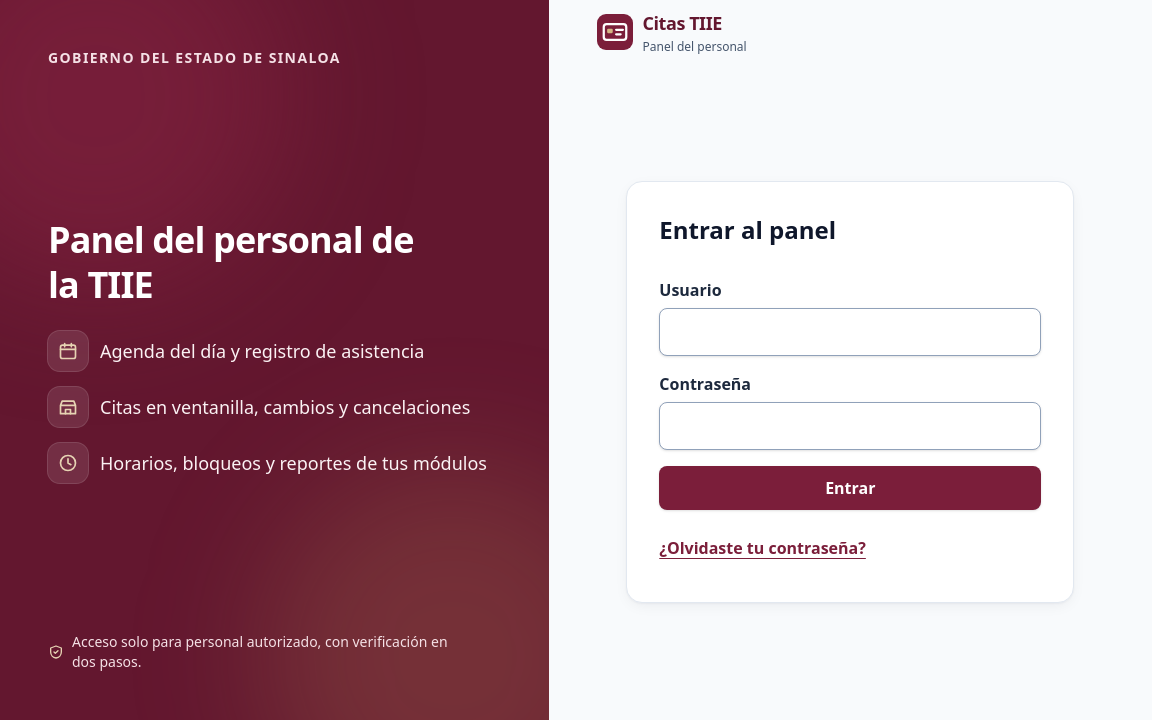
Test: Entrar al panel › con CuentaBloqueada indica a qué hora de Sinaloa se desbloquea
Type "capturista" into the field labelled "Usuario" at x=850, y=332, box [659,308,1041,356]
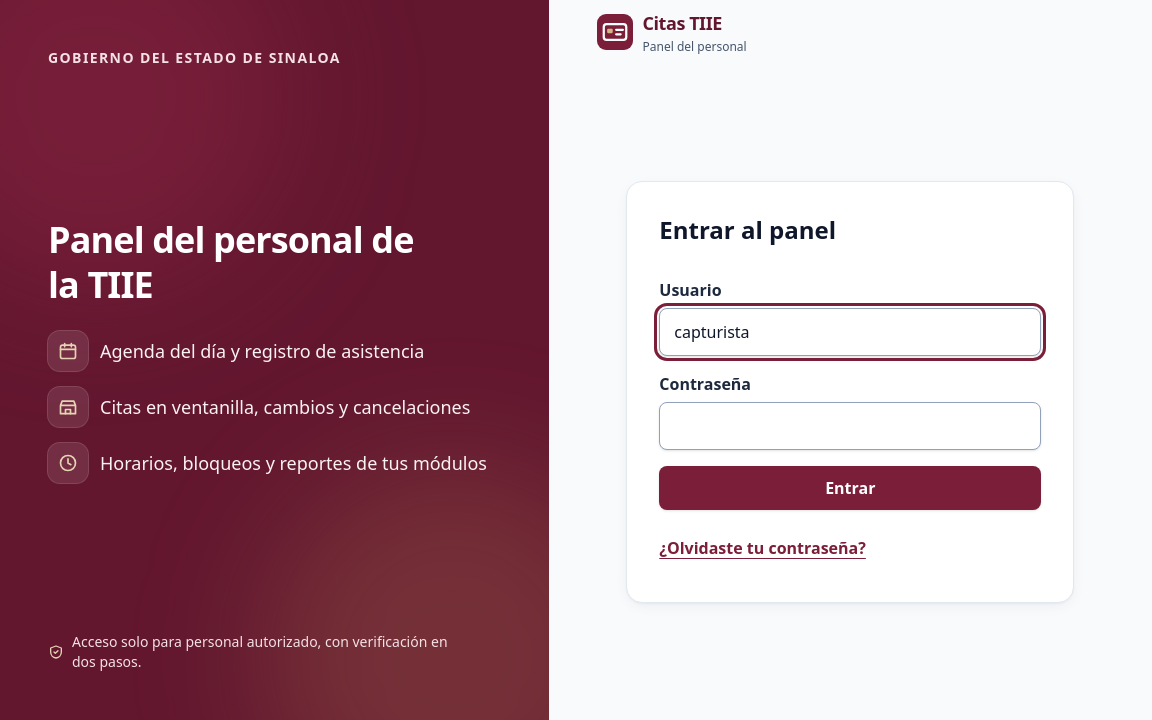
Type "una frase larga y segura" into the password field labelled "Contraseña" at x=850, y=426, box [659,402,1041,450]
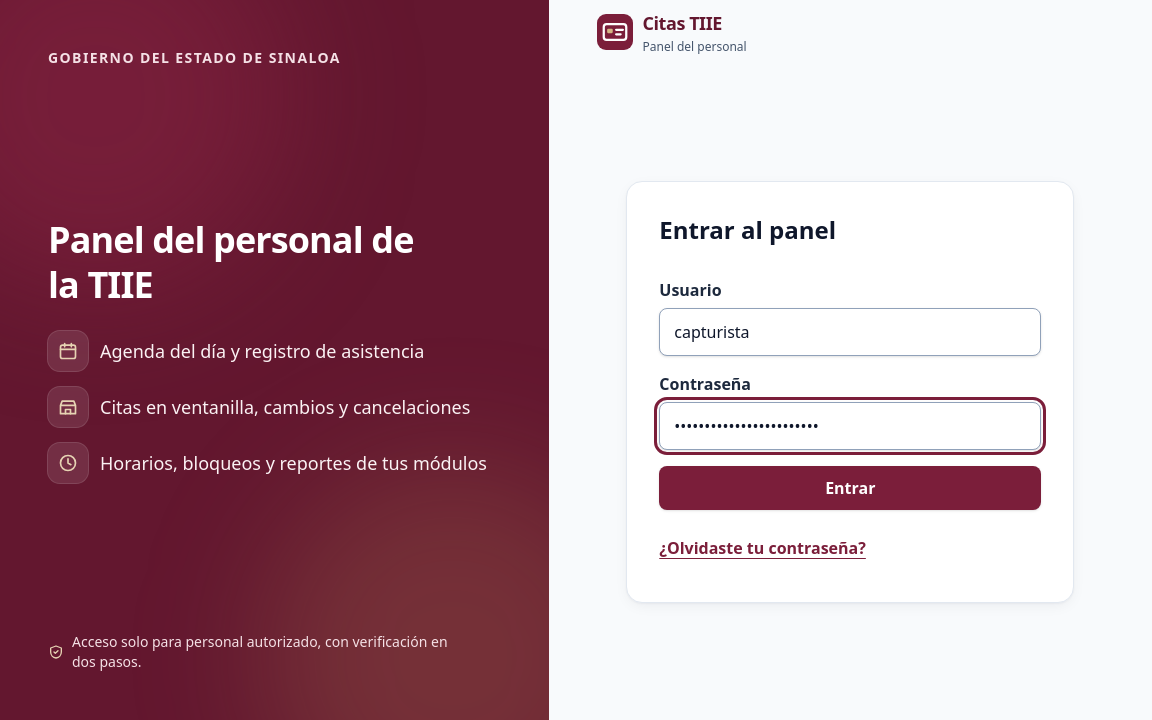
Click the button "Entrar" at x=850, y=488, box [659,466,1041,510]
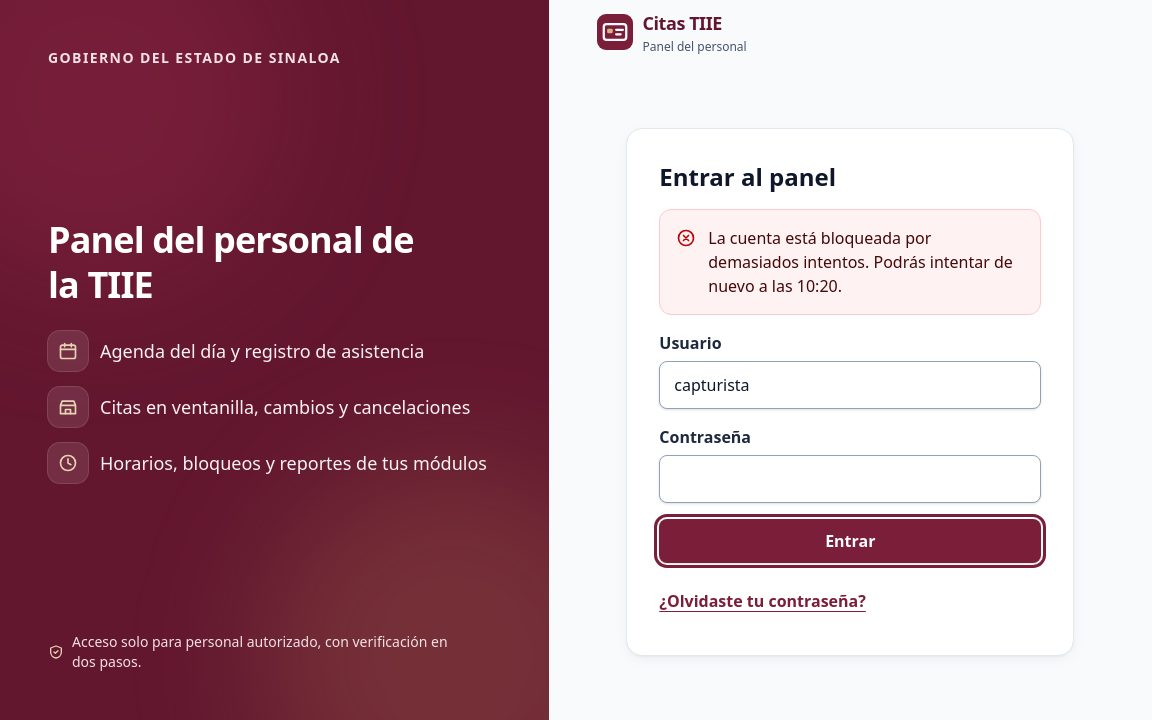
Now the text "La cuenta está bloqueada por demasiados intentos. Podrás intentar de nuevo a las 10:20." is shown, box [708,227,1013,297]
